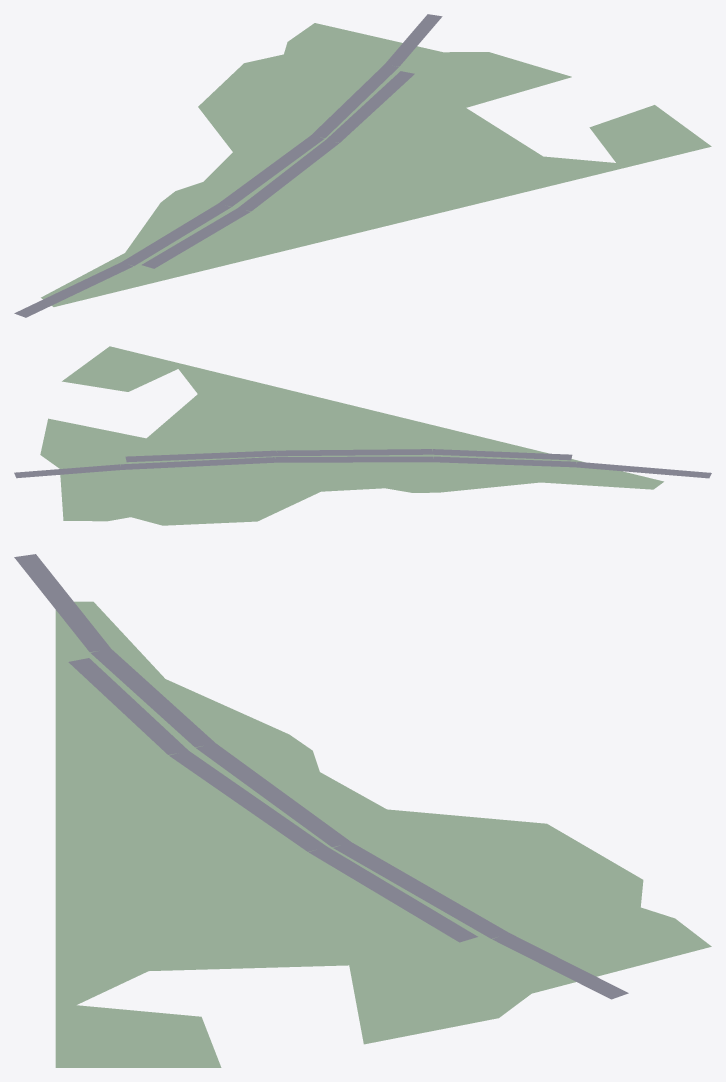
The model's file is 109_84_mid.glb.
The picture shows the model from 3 angles, top to bottom: view 1: azimuth 30°, elevation 25°; view 2: azimuth 150°, elevation 25°; view 3: azimuth 270°, elevation 25°; orthographic projection. The views are drawn at different scales.
Size of the model in its own units: 535 by 7.32 by 316.
